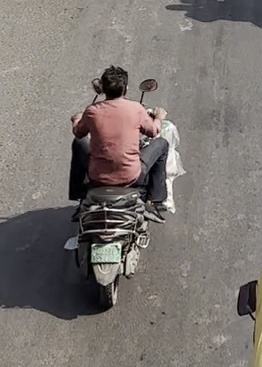BikeWithRider: (61, 58, 187, 318)
NoHelmet: (98, 61, 129, 107)
